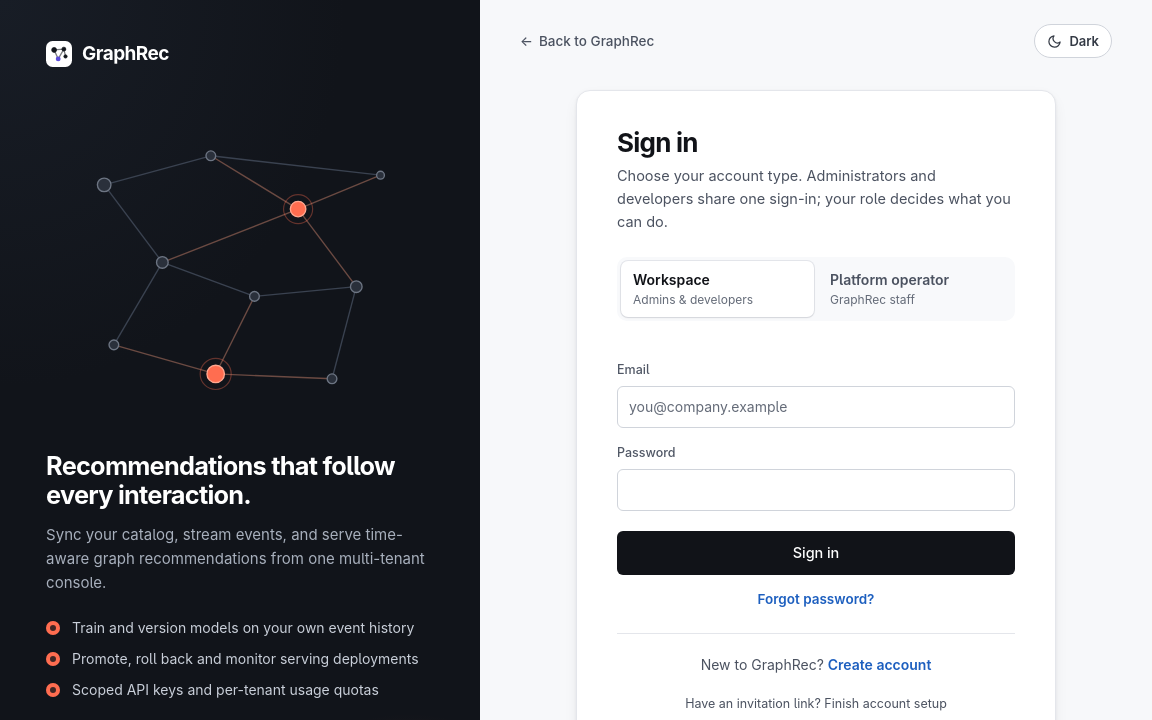
Test: LoginPage › signs in, stores the session and lands on Overview
Type "Dana@Northgate.example" into the field labelled "Email" at coordinates (816, 407), box 617,386 -> 1015,428
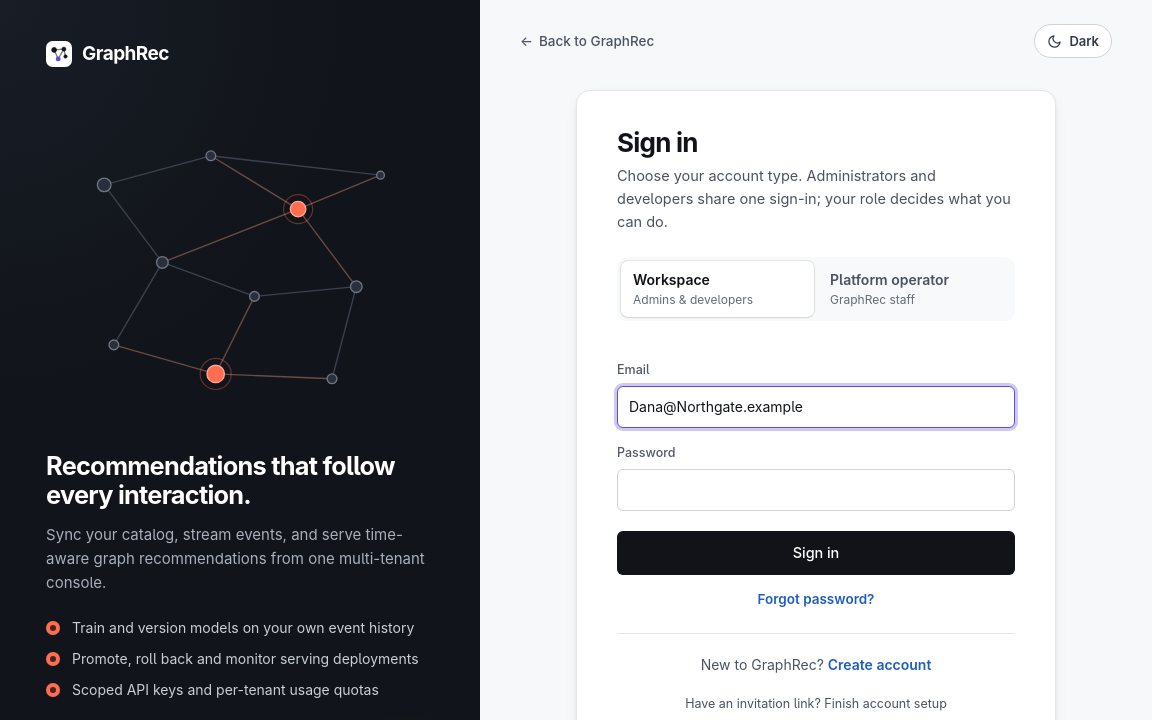
Type "correct horse" into the password field labelled "Password" at coordinates (816, 490), box 617,469 -> 1015,511
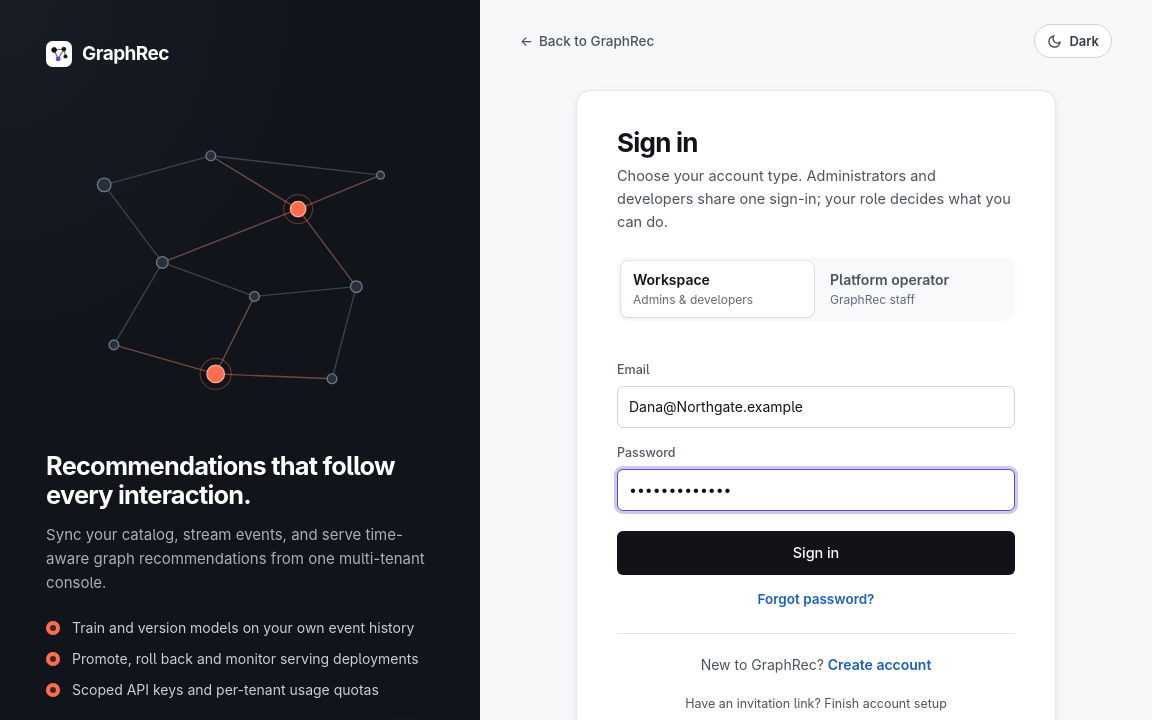
Click the button "Sign in" at coordinates (816, 553), box 617,531 -> 1015,575
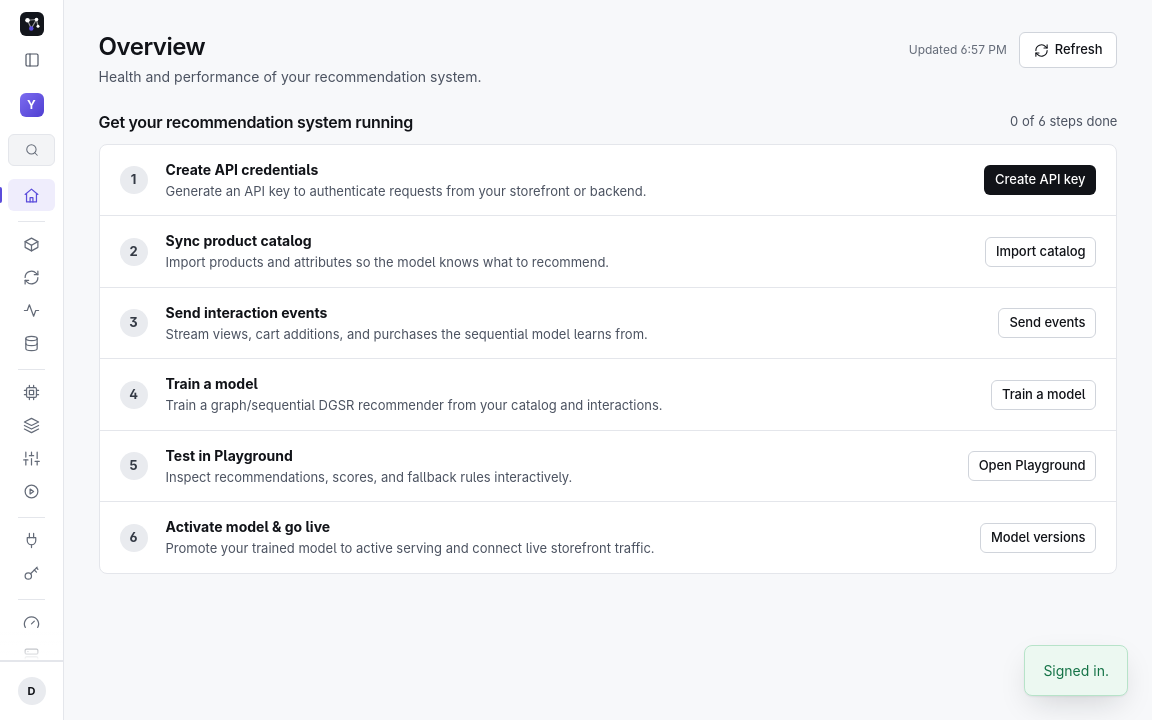
Expected: the heading "Overview" is shown, 98,32 -> 205,62
